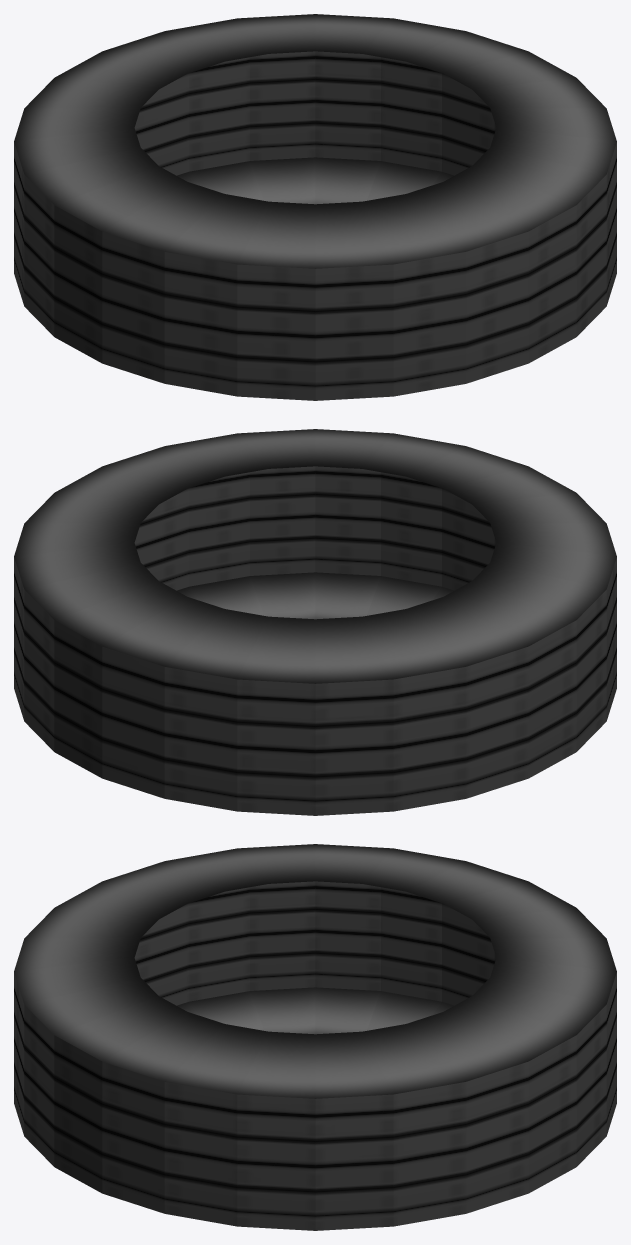
The model's file is equipment_0024_cartyre.glb.
3 views of the same model, one above another, from view 1: azimuth 30°, elevation 25°; view 2: azimuth 150°, elevation 25°; view 3: azimuth 270°, elevation 25° (orthographic).
Parts seen in each view (by area): view 1: tyre; view 2: tyre; view 3: tyre.
Part boxes in pixels (bbox=[...]): tyre: bbox=[14, 14, 616, 400]; tyre: bbox=[14, 429, 616, 815]; tyre: bbox=[14, 844, 616, 1230].
Size of the model in its own units: 60 by 17.5 by 60.
Materials: 1 (1 with a texture image).
